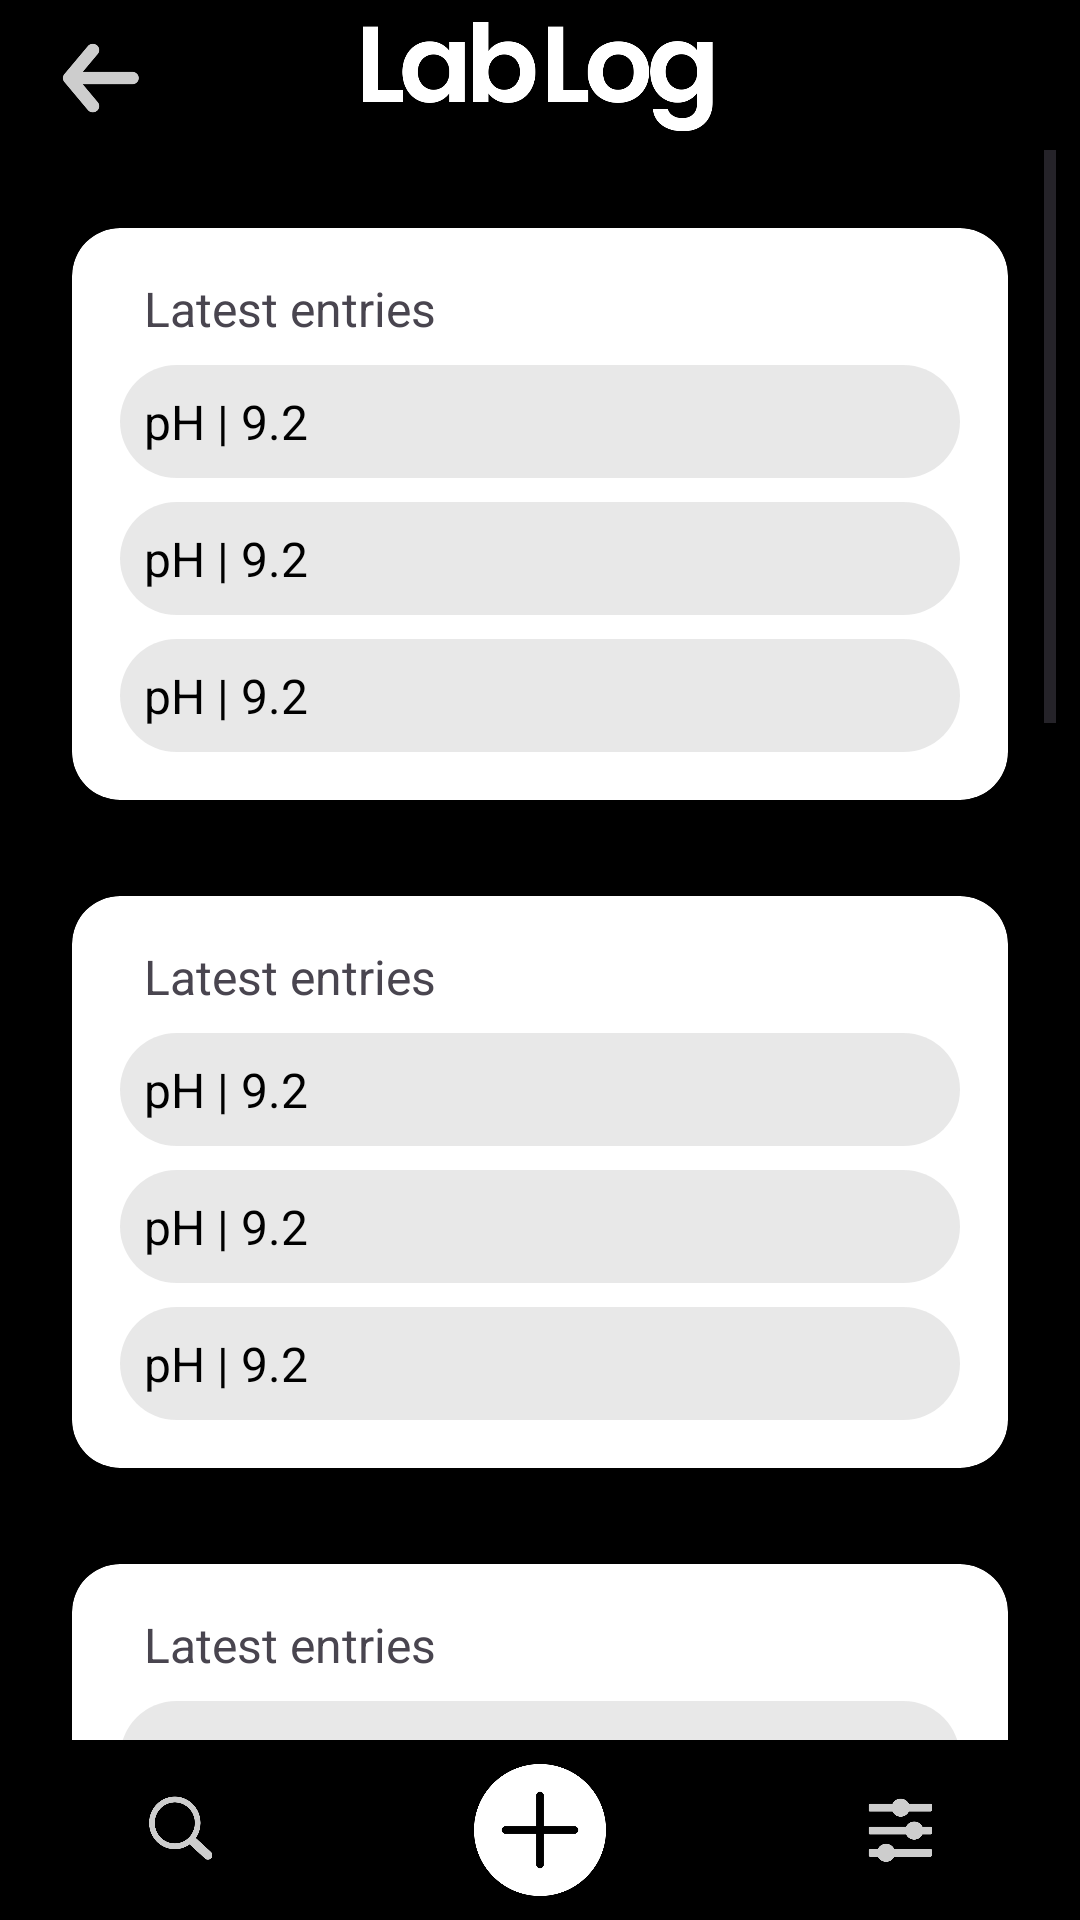

Icons on this 1080 × 1920 Android screen, each with its box as bbox=(x1, y1, x2, y2):
back icon: bbox=(63, 44, 139, 113)
search icon: bbox=(149, 1796, 212, 1860)
settings icon: bbox=(869, 1799, 932, 1862)
